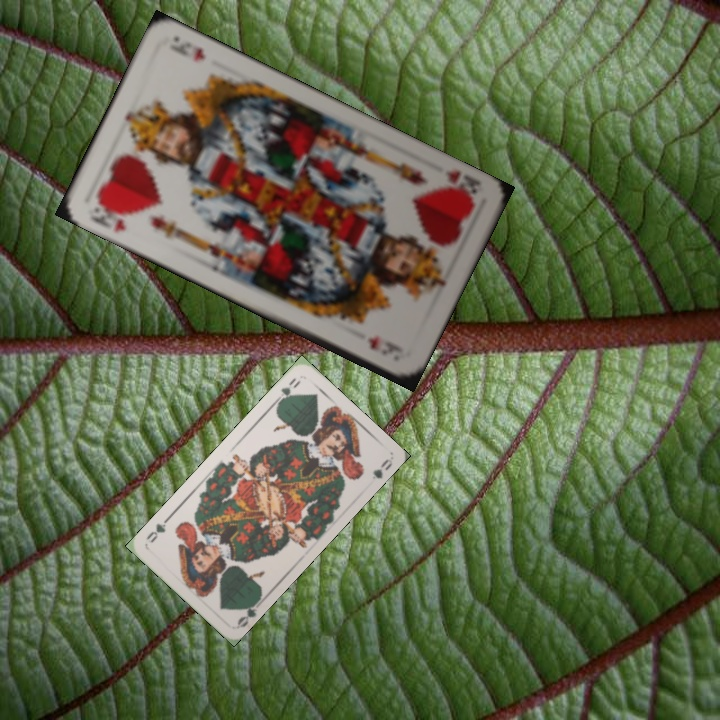GO: (233, 595, 266, 630), (270, 374, 303, 408)
HK: (435, 166, 484, 205), (85, 197, 130, 236)
